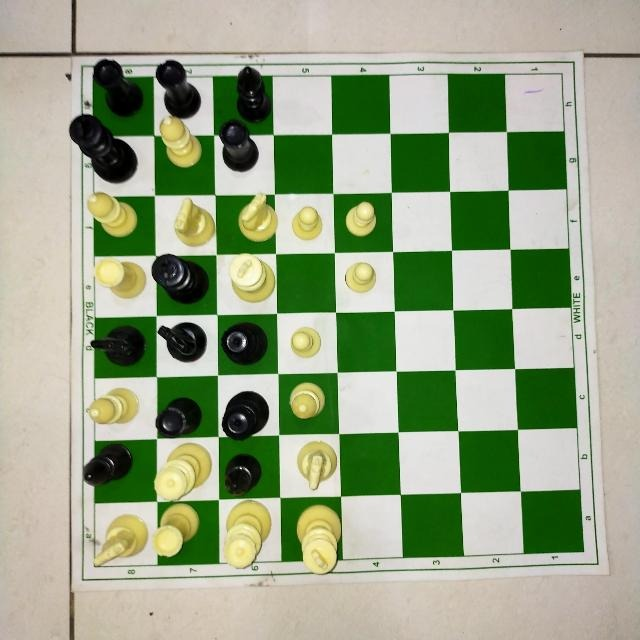black-bishop: (228, 65, 275, 120), (82, 440, 132, 486), (220, 447, 262, 498)
black-king: (65, 112, 138, 182), (150, 250, 210, 304)
black-knight: (88, 323, 152, 373), (156, 317, 208, 364)
black-queen: (216, 388, 272, 444), (219, 316, 270, 365)
black-rook: (86, 53, 146, 114), (152, 60, 205, 115), (215, 117, 264, 166), (152, 394, 204, 438)
white-bishop: (85, 190, 140, 240), (155, 117, 203, 167), (86, 387, 139, 427), (286, 381, 326, 422)
white-king: (294, 504, 355, 581), (226, 254, 276, 302)
white-knight: (90, 506, 147, 566), (292, 441, 342, 493), (170, 195, 215, 247), (235, 190, 279, 242)
white-pawn: (338, 198, 381, 244), (284, 321, 326, 360), (288, 200, 323, 243), (343, 256, 383, 288)
white-queen: (154, 440, 216, 502), (220, 499, 272, 571)
white-rook: (151, 502, 202, 561), (92, 255, 147, 301)
